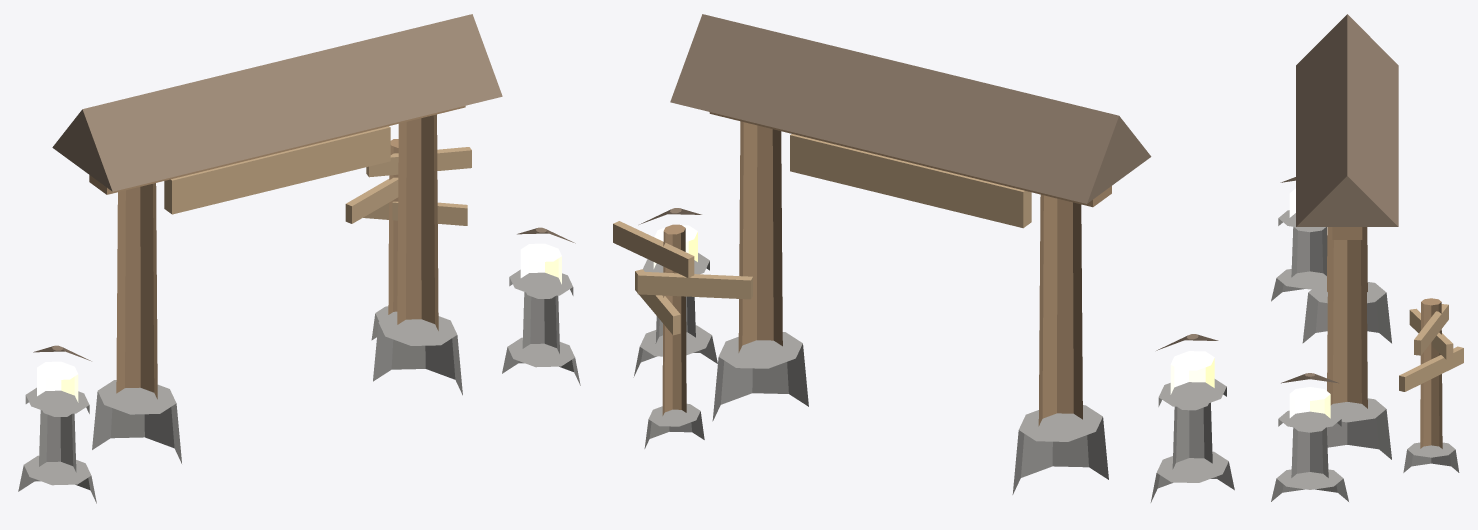
Rendered from prop_18_dalat_eco_park_cobblestone_lantern_log_arch_and_trail_sign_kit.glb.
3 renders of one model, left to right at view 1: azimuth 30°, elevation 25°; view 2: azimuth 150°, elevation 25°; view 3: azimuth 270°, elevation 25°, orthographic. The views are drawn at different scales.
Visible parts, largest first — view 1: prop_18_dalat_eco_park_cobblestone_lantern_log_arch_and_trai; view 2: prop_18_dalat_eco_park_cobblestone_lantern_log_arch_and_trai; view 3: prop_18_dalat_eco_park_cobblestone_lantern_log_arch_and_trai.
Part boxes in pixels (x1,y1,x2,y2): prop_18_dalat_eco_park_cobblestone_lantern_log_arch_and_trai: (18,14,580,503); prop_18_dalat_eco_park_cobblestone_lantern_log_arch_and_trai: (613,14,1234,502); prop_18_dalat_eco_park_cobblestone_lantern_log_arch_and_trai: (1271,14,1463,501).
Size of the model in its own units: 7.2 by 4.48 by 2.6.
